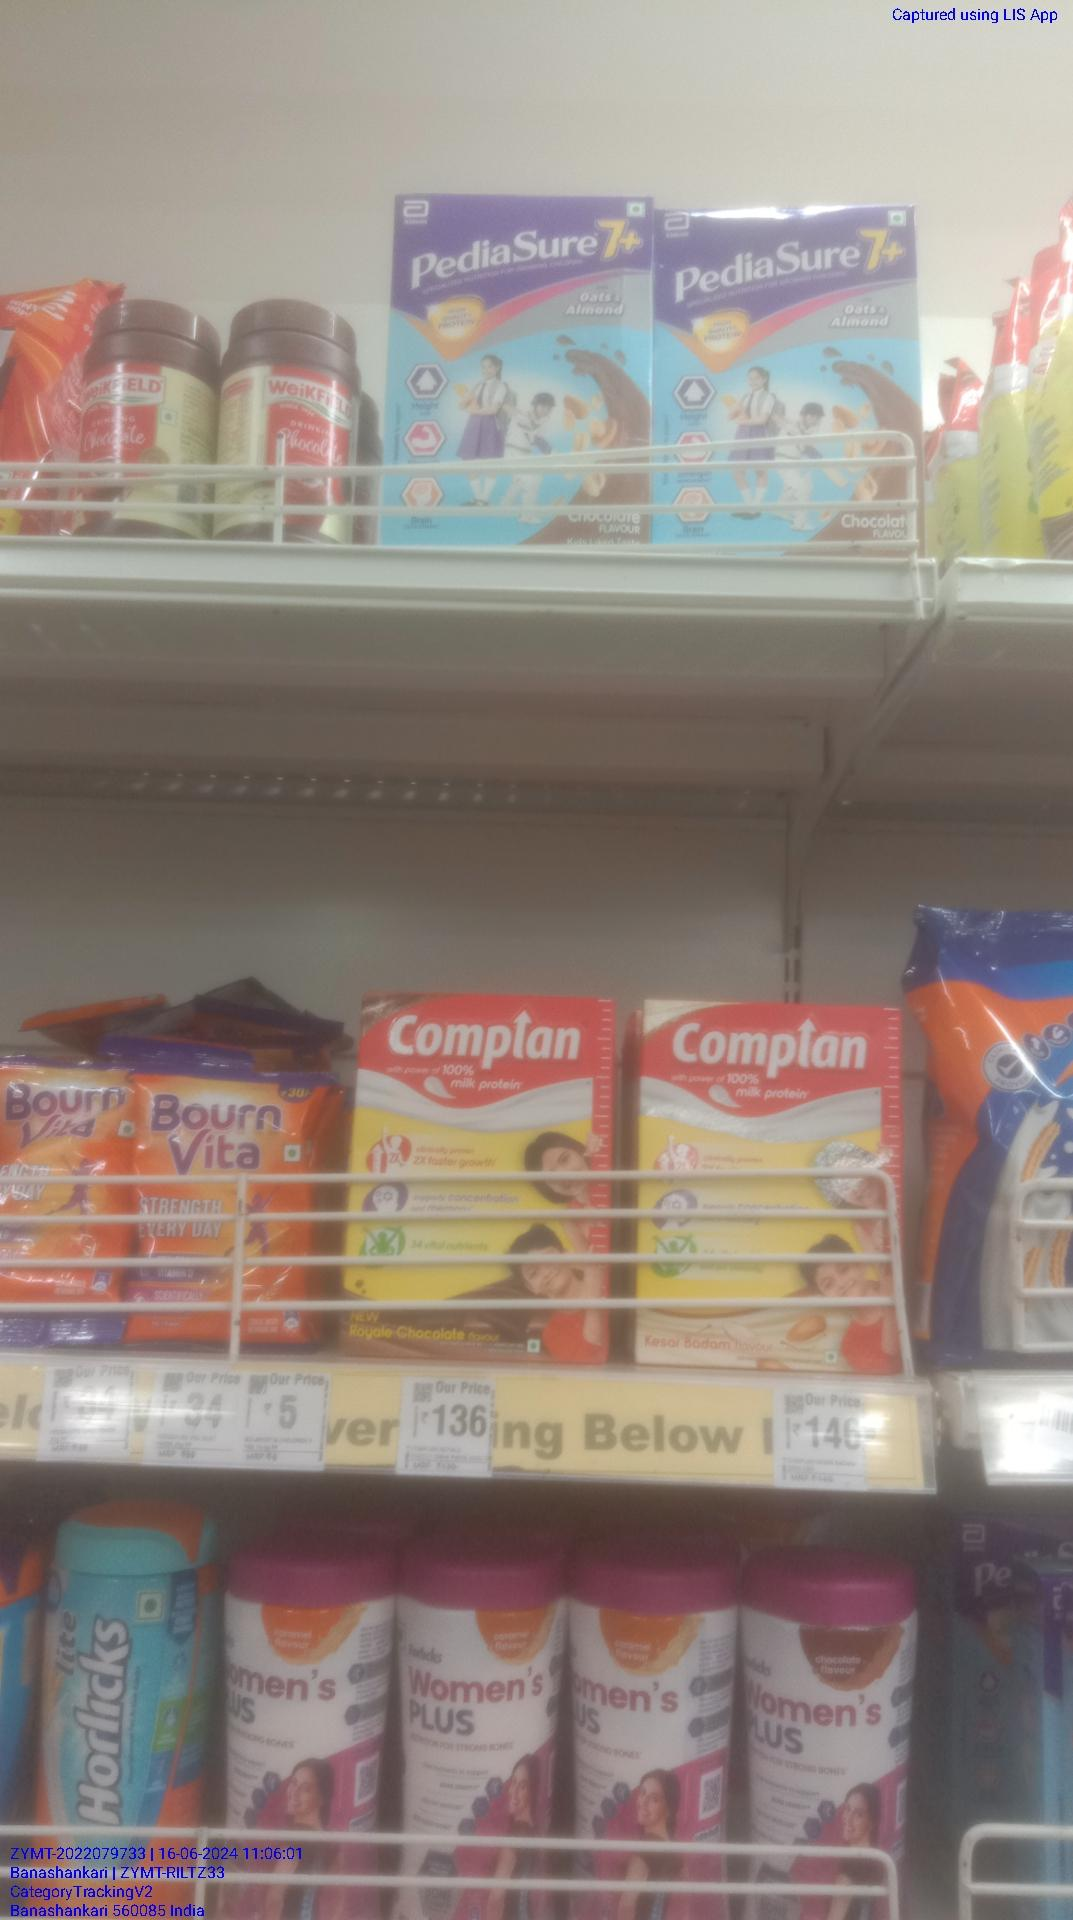BOURN_VITA_75_G_POUCH: (136, 1064, 311, 1346)
COMPLAN_CHOCOLATE_200_GMS_PACK: (344, 994, 616, 1357)
COMPLAN_KESAR_BADAM_200_GMS_PACK: (641, 1002, 899, 1370)
HORLICKS_LITE_REGULAR_MALT_500_GM_JAR: (37, 1514, 192, 1920)
PEDIASURE_7_PLUS_CHOCOLATE_400_G_PACK: (654, 210, 921, 551), (388, 187, 643, 541)
